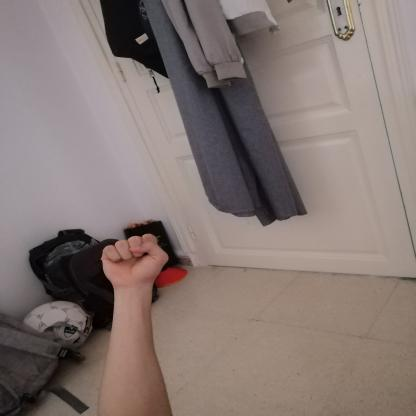SAD: (89, 226, 181, 290)
